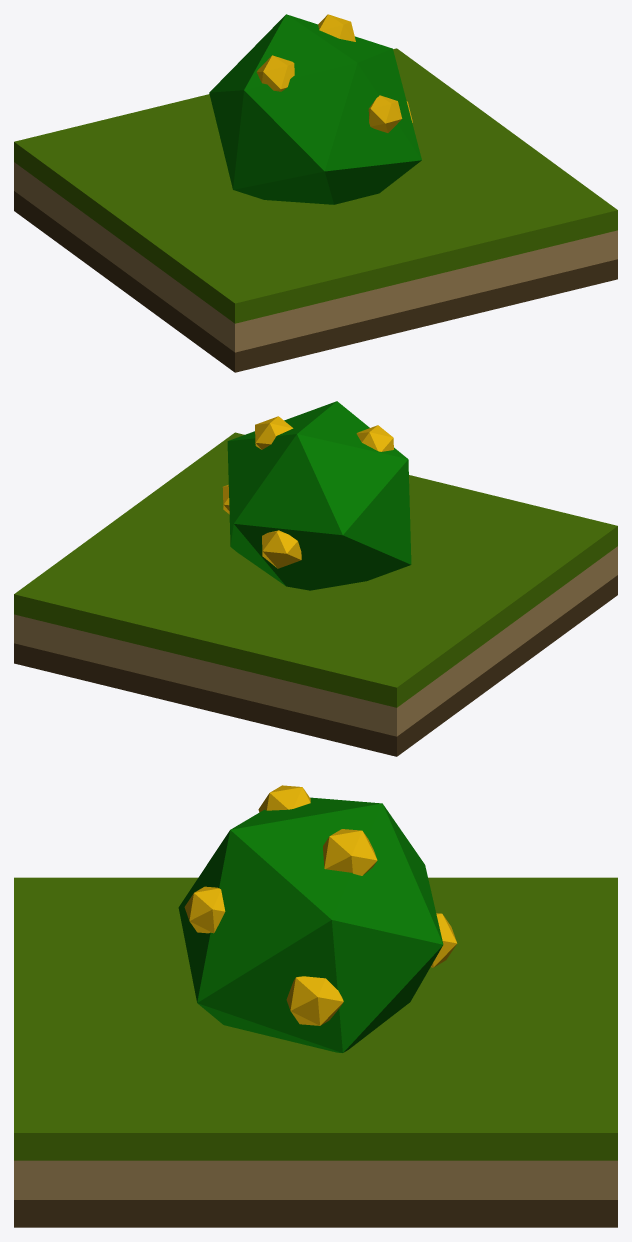
The model's file is bush with flower.fbx.
3 renders of one model, top to bottom at view 1: azimuth 30°, elevation 25°; view 2: azimuth 150°, elevation 25°; view 3: azimuth 270°, elevation 25°, orthographic. The views are drawn at different scales.
Visible parts, largest first — view 1: tree ground.003, flower bush, Icosphere.033, Icosphere.035, Icosphere.034; view 2: tree ground.003, flower bush, Icosphere.038, Icosphere.034, Icosphere.033; view 3: tree ground.003, flower bush, Icosphere.036, Icosphere.034, Icosphere.035, Icosphere.033, Icosphere.038.
Part boxes in pixels (x1,y1,x2,y2): tree ground.003: (14, 48, 617, 372); flower bush: (209, 14, 421, 204); Icosphere.033: (256, 55, 294, 91); Icosphere.035: (368, 95, 402, 132); Icosphere.034: (318, 14, 355, 41); tree ground.003: (14, 432, 617, 756); flower bush: (227, 401, 411, 590); Icosphere.038: (262, 530, 301, 568); Icosphere.034: (255, 416, 293, 449); Icosphere.033: (356, 425, 393, 451); tree ground.003: (14, 877, 617, 1227); flower bush: (178, 797, 443, 1052); Icosphere.036: (286, 976, 343, 1025); Icosphere.034: (323, 829, 377, 875); Icosphere.035: (184, 886, 225, 933); Icosphere.033: (258, 785, 310, 812); Icosphere.038: (431, 913, 457, 967).
Bounding box in the file's own units: 194 × 104 × 194.
